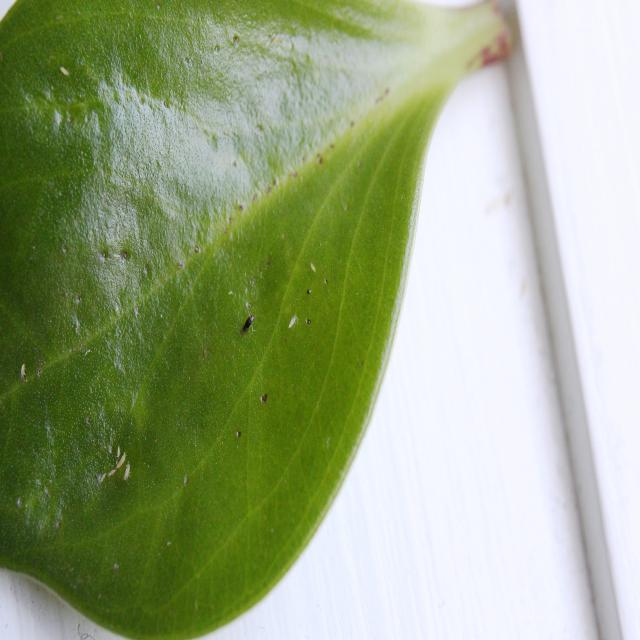Thrip-Adult-: (238, 310, 255, 340)
Thrip-Larva-: (114, 451, 127, 471), (57, 63, 73, 78), (122, 460, 132, 481), (287, 313, 298, 331), (20, 361, 28, 379), (309, 261, 317, 273), (100, 472, 107, 484), (108, 469, 116, 478), (117, 444, 120, 458)
